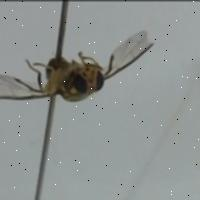Oriental-fruit-fly: (1, 14, 164, 114)
